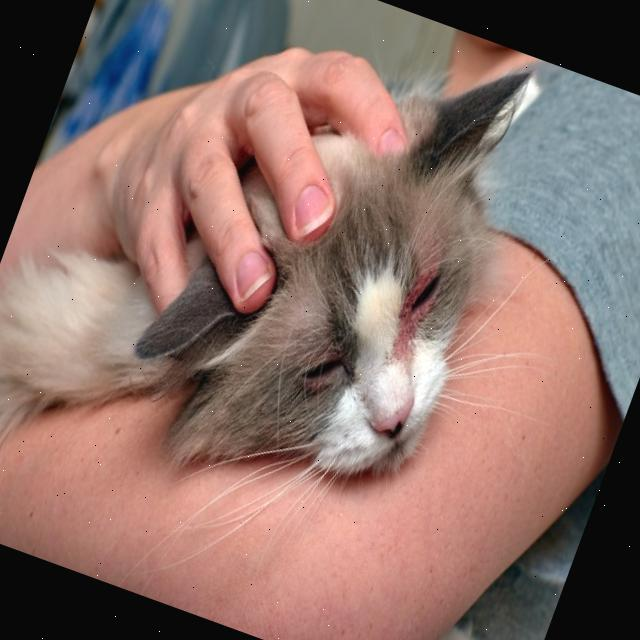cat-ringworm: (389, 265, 442, 355)
